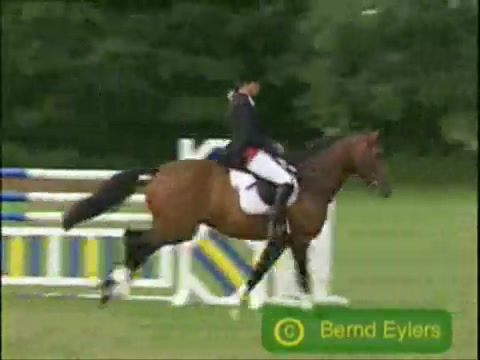horse: (63, 128, 394, 320)
